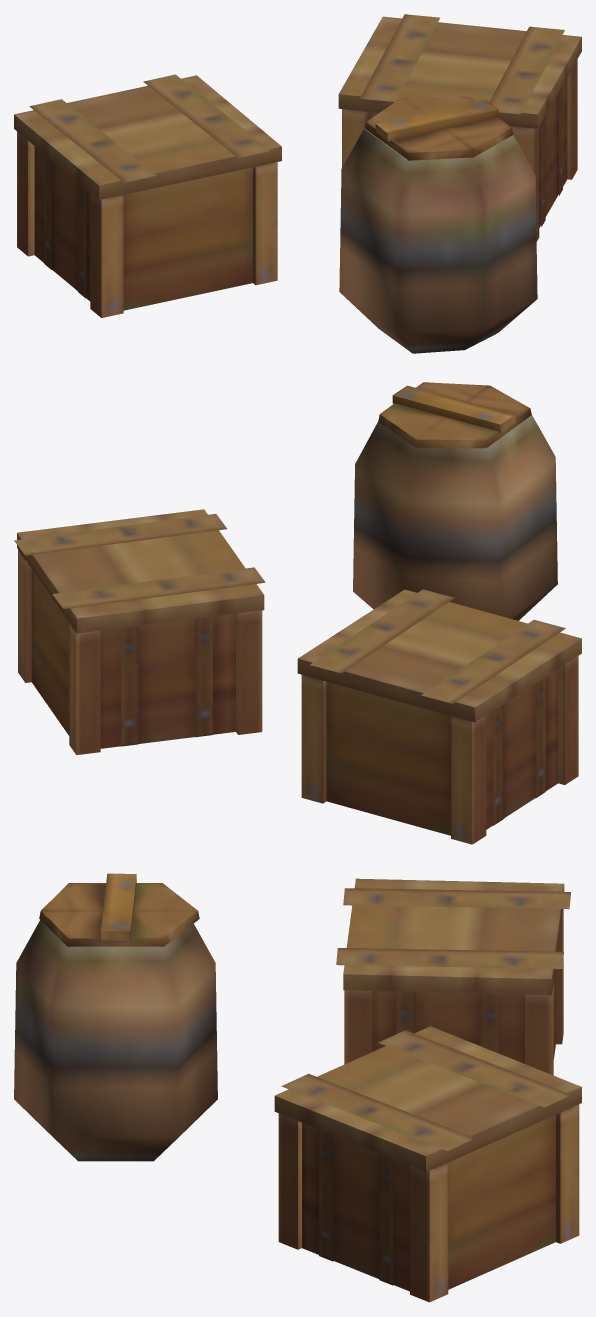
The model's file is area_07_15.fbx.
The picture shows the model from 3 angles, top to bottom: view 1: azimuth 30°, elevation 25°; view 2: azimuth 150°, elevation 25°; view 3: azimuth 270°, elevation 25°; orthographic projection. The views are drawn at different scales.
Parts seen in each view (by area): view 1: area_07_15; view 2: area_07_15; view 3: area_07_15.
Part boxes in pixels (x1,y1,x2,y2): area_07_15: (14, 14, 581, 353); area_07_15: (14, 382, 581, 844); area_07_15: (14, 873, 581, 1302).
Size of the model in its own units: 2.84 by 1.18 by 2.45.
